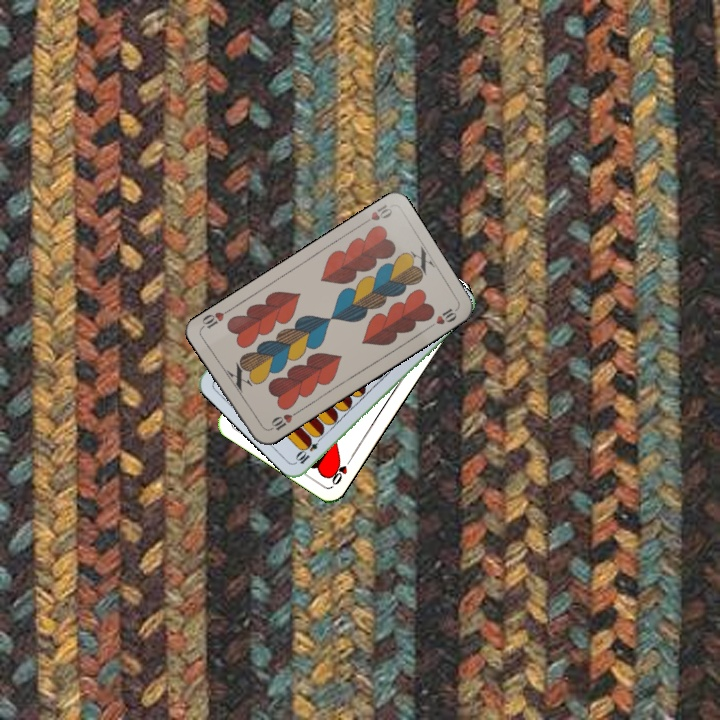E10: (292, 431, 325, 467)
H10: (357, 200, 395, 228), (264, 407, 301, 434)
HO: (326, 452, 356, 488)
